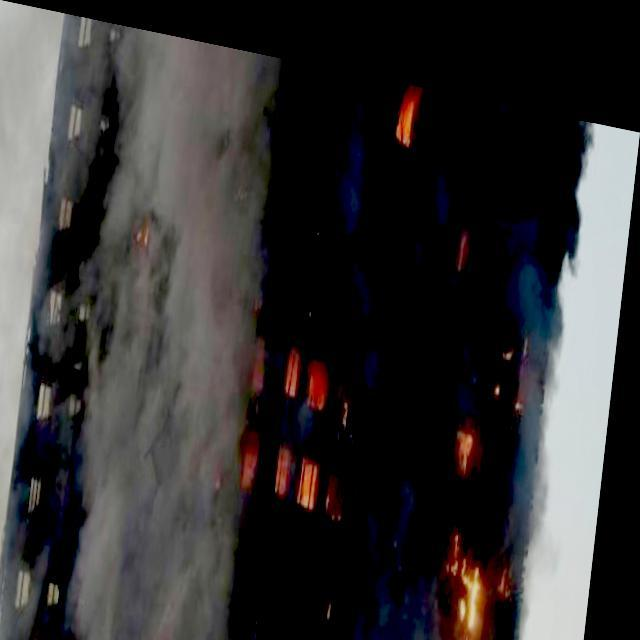Fire: (238, 322, 372, 512), (440, 526, 504, 639), (386, 68, 421, 132)
